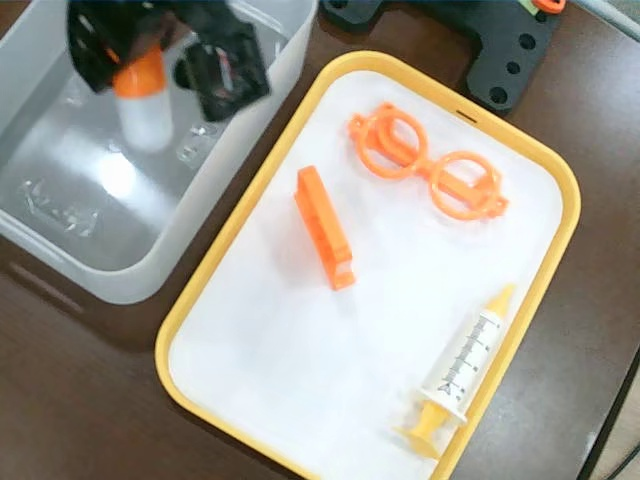pill: (114, 38, 171, 155)
syringe: (398, 284, 516, 457)
